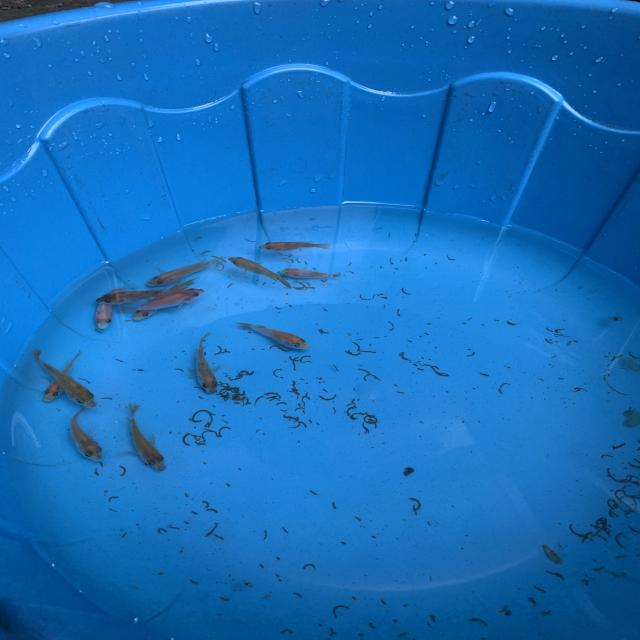nila: (32, 350, 104, 408), (128, 276, 198, 328), (121, 402, 172, 472), (39, 344, 94, 405), (230, 317, 315, 352), (141, 256, 225, 290), (64, 401, 108, 464), (225, 253, 296, 291), (87, 282, 179, 308), (192, 328, 223, 398), (134, 288, 209, 315), (89, 284, 123, 334), (253, 235, 335, 252), (278, 266, 349, 282)
